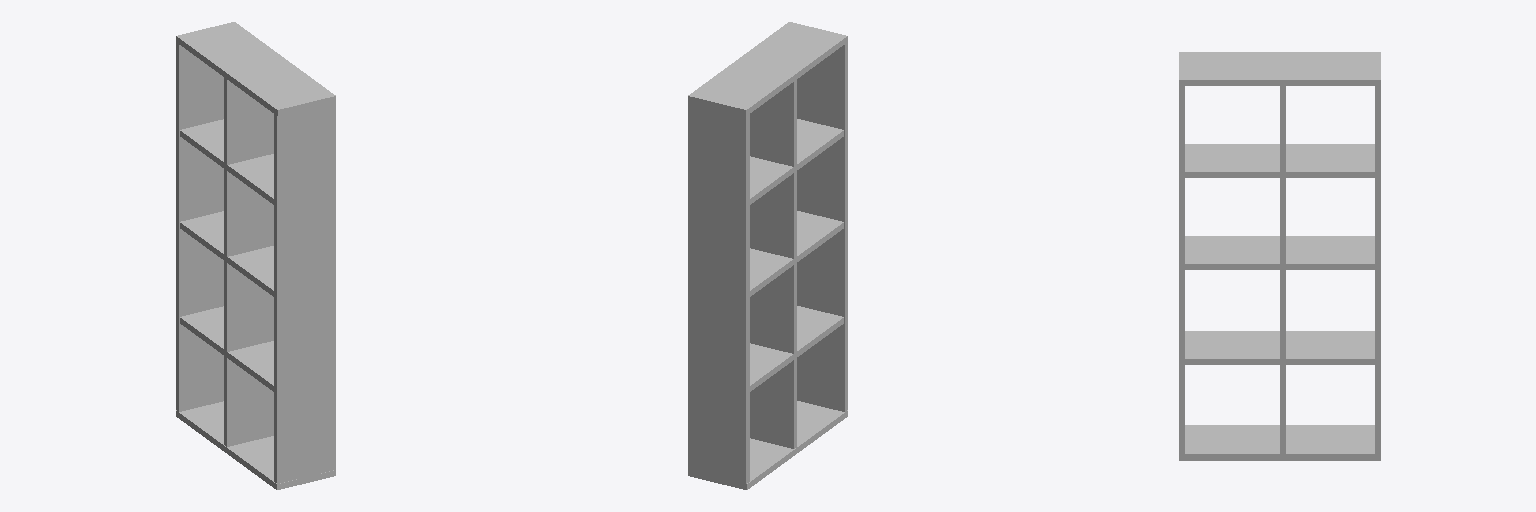
The model's file is estante.obj.
3 views of the same model, side by side, from view 1: azimuth 30°, elevation 25°; view 2: azimuth 150°, elevation 25°; view 3: azimuth 270°, elevation 25° (orthographic).
Visible parts, largest first — view 1: Cube.001, Cube.002, Cube.003, Cube.004, Cube, Cube.008, Cube.007, Cube.009; view 2: Cube.003, Cube.001, Cube.002, Cube.004, Cube, Cube.007, Cube.008, Cube.009; view 3: Cube.004, Cube, Cube.007, Cube.008, Cube.009, Cube.003, Cube.001, Cube.002.
Part boxes in pixels (x1,y1,x2,y2): Cube.001: (274,102,335,483); Cube.002: (224,78,273,446); Cube.003: (176,42,223,411); Cube.004: (176,22,335,115); Cube: (176,401,335,489); Cube.008: (180,211,273,296); Cube.007: (180,306,273,391); Cube.009: (180,119,273,204); Cube.003: (688,102,749,483); Cube.001: (797,42,847,411); Cube.002: (750,80,796,448); Cube.004: (688,22,847,115); Cube: (688,401,847,489); Cube.007: (750,306,843,391); Cube.008: (750,211,843,296); Cube.009: (750,119,843,204); Cube.004: (1179,52,1380,85); Cube: (1179,425,1380,460); Cube.007: (1185,331,1374,364); Cube.008: (1185,236,1374,269); Cube.009: (1185,144,1374,177); Cube.003: (1375,86,1380,453); Cube.001: (1179,86,1184,453); Cube.002: (1280,86,1285,453).
Size of the model in its own units: 2.03 by 12.4 by 6.